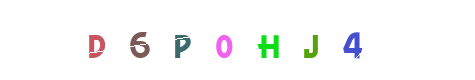4: (313, 0, 393, 80)
6: (118, 0, 198, 80)
D: (57, 0, 137, 80)
H: (202, 0, 282, 80)
J: (246, 0, 326, 80)
O: (198, 0, 278, 80)
P: (191, 0, 271, 80)
